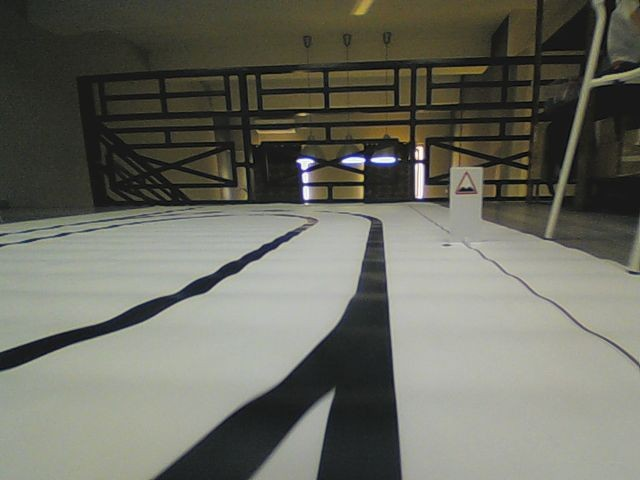Nerov: (454, 170, 478, 196)
